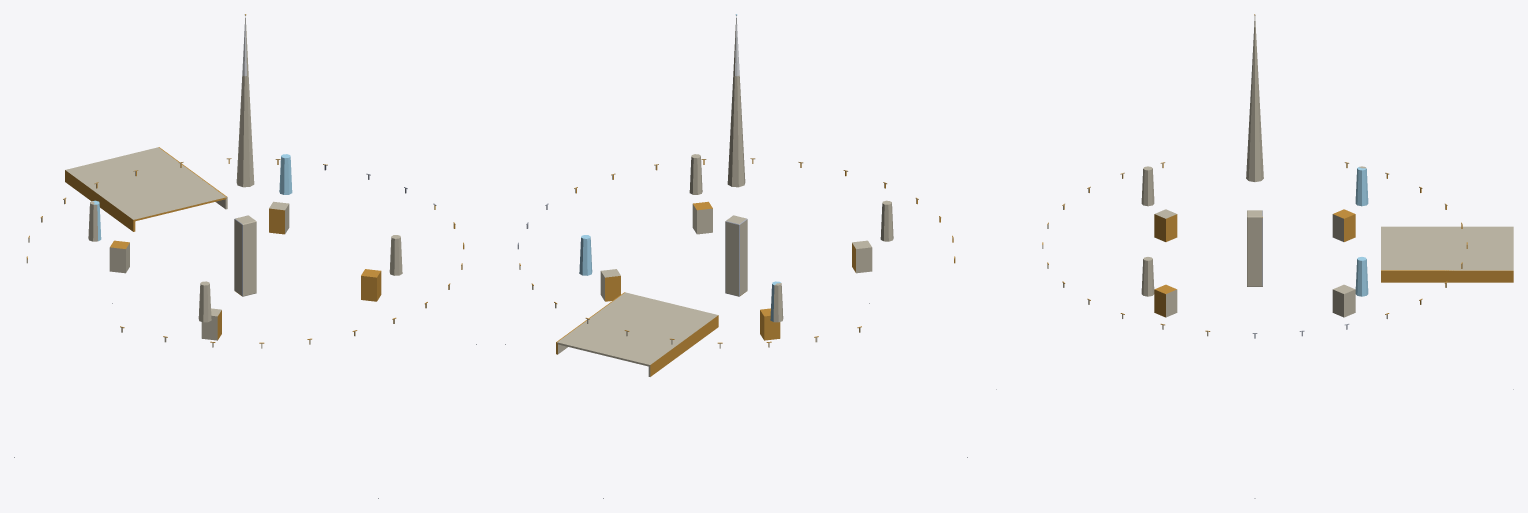
The model's file is chunk_es_sanctum.fbx.
3 renders of one model, left to right at view 1: azimuth 30°, elevation 25°; view 2: azimuth 150°, elevation 25°; view 3: azimuth 270°, elevation 25°, orthographic. The views are drawn at different scales.
Visible parts, largest first — view 1: ES_SANCTUM; view 2: ES_SANCTUM; view 3: ES_SANCTUM.
Boxes of the visible parts, x1,y1,x2,y2 form: ES_SANCTUM: (14,14,476,498); ES_SANCTUM: (505,14,967,498); ES_SANCTUM: (996,14,1513,498).
Bounding box in the file's own units: 320 × 256 × 320.
